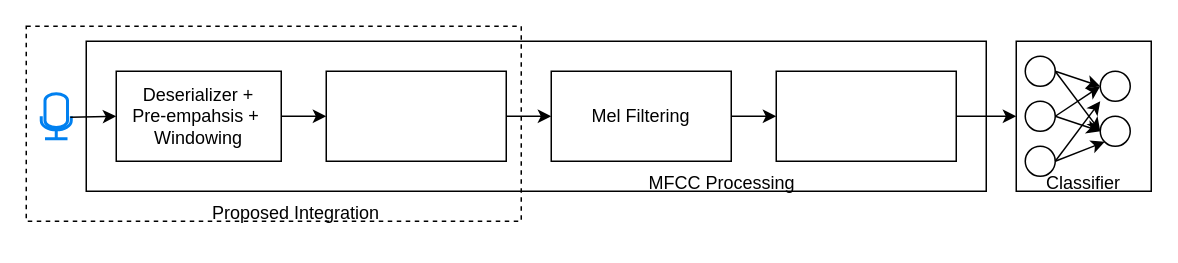
Some shapes in this 1178 by 263 pixel diagram are drawn without their labels. Here are the shapes that lost their labels. From the top down, the centre of each, then its label:
the point at 415,115: Fast-Fourier Transform (FFT)
the point at 865,115: Log + DCT
